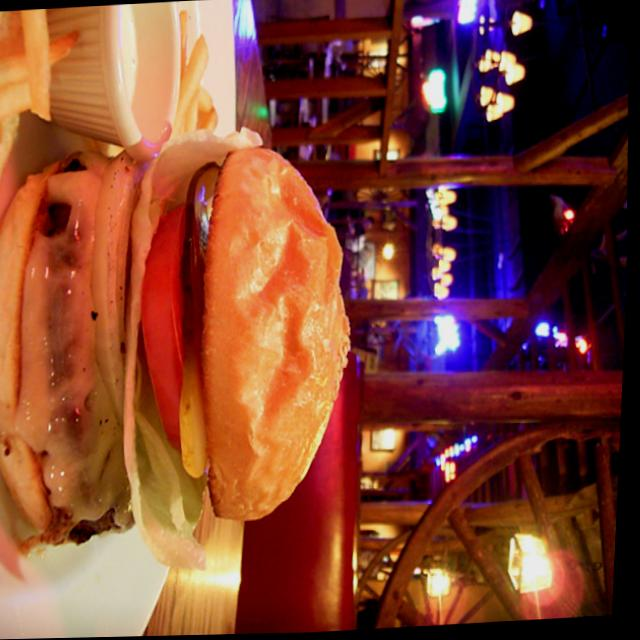汉堡快餐: (0, 109, 387, 563)
